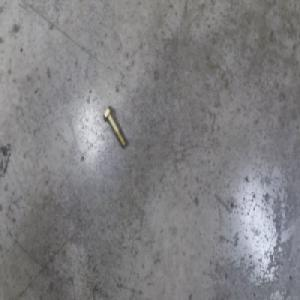Bolt: (102, 105, 126, 149)
